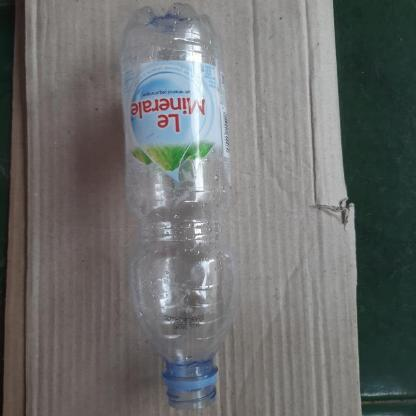Plastic Bottle: (104, 0, 260, 404)
